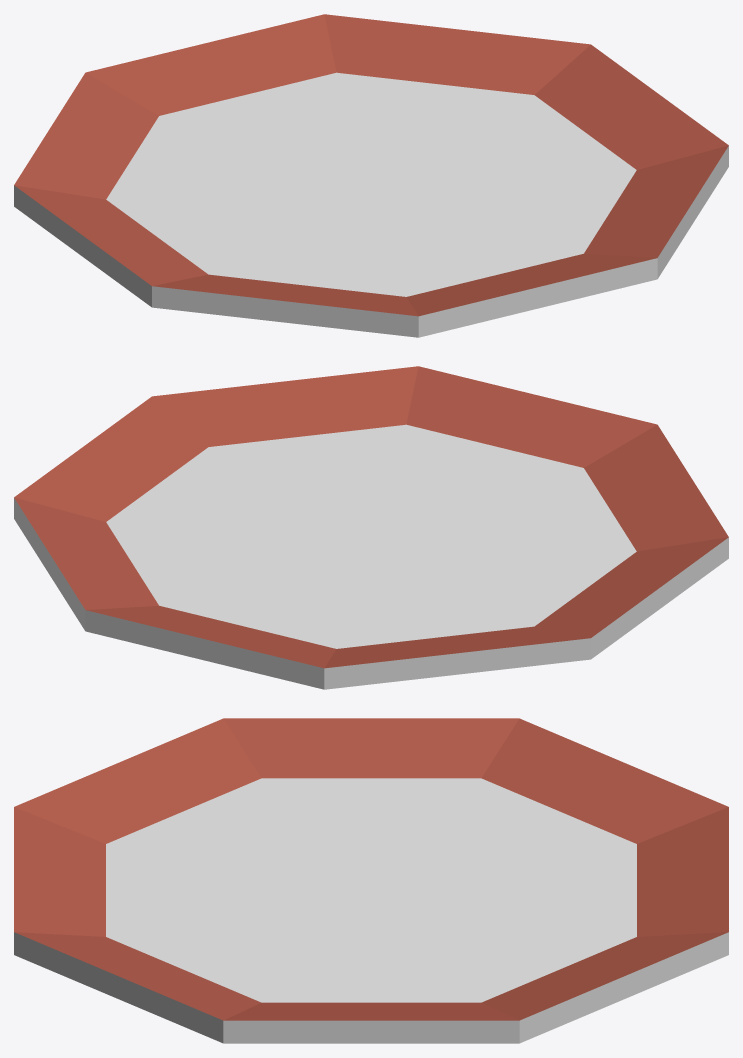
File: Plate2_C3.fbx
3 views of the same model, one above another, from view 1: azimuth 30°, elevation 25°; view 2: azimuth 150°, elevation 25°; view 3: azimuth 270°, elevation 25° (orthographic). The views are drawn at different scales.
Visible parts, largest first — view 1: Plate2_C3; view 2: Plate2_C3; view 3: Plate2_C3.
Part boxes in pixels (<box>): Plate2_C3: <box>14,14,728,337</box>; Plate2_C3: <box>14,366,728,689</box>; Plate2_C3: <box>14,718,728,1043</box>.
Size of the model in its own units: 21.53 by 1.46 by 21.53.
